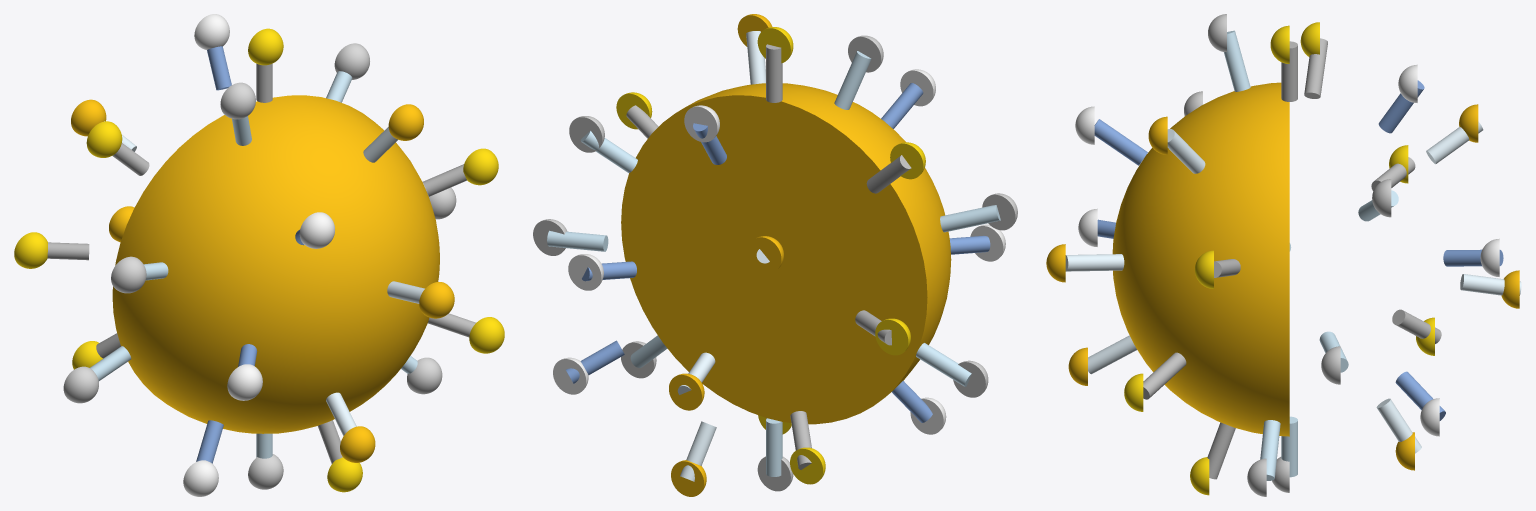
Rendered from 21_SARS_CoV_2_reference - Composite part 1.glb.
The picture shows the model from 3 angles, left to right: view 1: azimuth 30°, elevation 25°; view 2: azimuth 150°, elevation 25°; view 3: azimuth 270°, elevation 25°; orthographic projection.
Parts seen in each view (by area): view 1: Open CASCADE STEP translator 7.9 21.1, Open CASCADE STEP translator 7.9 21.5, Open CASCADE STEP translator 7.9 21.3, Open CASCADE STEP translator 7.9 21.21, Open CASCADE STEP translator 7.9 21.11, Open CASCADE STEP translator 7.9 21.25, Open CASCADE STEP translator 7.9 21.9, Open CASCADE STEP translator 7.9 21.15, Open CASCADE STEP translator 7.9 21.31, Open CASCADE STEP translator 7.9 21.35, Open CASCADE STEP translator 7.9 21.47, Open CASCADE STEP translator 7.9 21.19 (+24 smaller); view 2: Open CASCADE STEP translator 7.9 21.1, Open CASCADE STEP translator 7.9 21.20, Open CASCADE STEP translator 7.9 21.28, Open CASCADE STEP translator 7.9 21.4, Open CASCADE STEP translator 7.9 21.36, Open CASCADE STEP translator 7.9 21.33, Open CASCADE STEP translator 7.9 21.23, Open CASCADE STEP translator 7.9 21.17, Open CASCADE STEP translator 7.9 21.52, Open CASCADE STEP translator 7.9 21.2, Open CASCADE STEP translator 7.9 21.43, Open CASCADE STEP translator 7.9 21.39 (+32 smaller); view 3: Open CASCADE STEP translator 7.9 21.1, Open CASCADE STEP translator 7.9 21.24, Open CASCADE STEP translator 7.9 21.14, Open CASCADE STEP translator 7.9 21.4, Open CASCADE STEP translator 7.9 21.34, Open CASCADE STEP translator 7.9 21.44, Open CASCADE STEP translator 7.9 21.10, Open CASCADE STEP translator 7.9 21.40, Open CASCADE STEP translator 7.9 21.50, Open CASCADE STEP translator 7.9 21.2, Open CASCADE STEP translator 7.9 21.48, Open CASCADE STEP translator 7.9 21.8 (+28 smaller).
Boxes of the visible parts, box(x1,y1,x2,y2) form: Open CASCADE STEP translator 7.9 21.1: box(112, 95, 439, 433); Open CASCADE STEP translator 7.9 21.5: box(220, 82, 255, 119); Open CASCADE STEP translator 7.9 21.3: box(248, 28, 283, 65); Open CASCADE STEP translator 7.9 21.21: box(111, 256, 146, 293); Open CASCADE STEP translator 7.9 21.11: box(86, 121, 122, 157); Open CASCADE STEP translator 7.9 21.25: box(419, 282, 454, 318); Open CASCADE STEP translator 7.9 21.9: box(388, 104, 423, 140); Open CASCADE STEP translator 7.9 21.15: box(299, 212, 334, 248); Open CASCADE STEP translator 7.9 21.31: box(227, 364, 262, 400); Open CASCADE STEP translator 7.9 21.35: box(469, 317, 504, 353); Open CASCADE STEP translator 7.9 21.47: box(183, 460, 218, 496); Open CASCADE STEP translator 7.9 21.19: box(463, 148, 498, 185); Open CASCADE STEP translator 7.9 21.1: box(621, 83, 951, 424); Open CASCADE STEP translator 7.9 21.20: box(940, 205, 1000, 232); Open CASCADE STEP translator 7.9 21.28: box(547, 230, 608, 251); Open CASCADE STEP translator 7.9 21.4: box(834, 51, 871, 109); Open CASCADE STEP translator 7.9 21.36: box(916, 343, 971, 386); Open CASCADE STEP translator 7.9 21.33: box(669, 373, 704, 410); Open CASCADE STEP translator 7.9 21.23: box(568, 254, 603, 290); Open CASCADE STEP translator 7.9 21.17: box(748, 236, 783, 272); Open CASCADE STEP translator 7.9 21.52: box(766, 418, 782, 476); Open CASCADE STEP translator 7.9 21.2: box(766, 44, 782, 102); Open CASCADE STEP translator 7.9 21.43: box(790, 447, 825, 484); Open CASCADE STEP translator 7.9 21.39: box(553, 357, 588, 394); Open CASCADE STEP translator 7.9 21.1: box(1112, 82, 1289, 436); Open CASCADE STEP translator 7.9 21.24: box(1065, 254, 1124, 271); Open CASCADE STEP translator 7.9 21.14: box(1094, 119, 1147, 165); Open CASCADE STEP translator 7.9 21.4: box(1224, 30, 1250, 91); Open CASCADE STEP translator 7.9 21.34: box(1143, 352, 1186, 399); Open CASCADE STEP translator 7.9 21.44: box(1260, 420, 1280, 480); Open CASCADE STEP translator 7.9 21.10: box(1304, 38, 1327, 98); Open CASCADE STEP translator 7.9 21.40: box(1088, 335, 1136, 374); Open CASCADE STEP translator 7.9 21.50: box(1207, 422, 1235, 479); Open CASCADE STEP translator 7.9 21.2: box(1281, 41, 1297, 101); Open CASCADE STEP translator 7.9 21.48: box(1376, 398, 1421, 453); Open CASCADE STEP translator 7.9 21.8: box(1167, 129, 1205, 173).
Size of the model in its own units: 0.0166 by 0.0173 by 0.0161.
